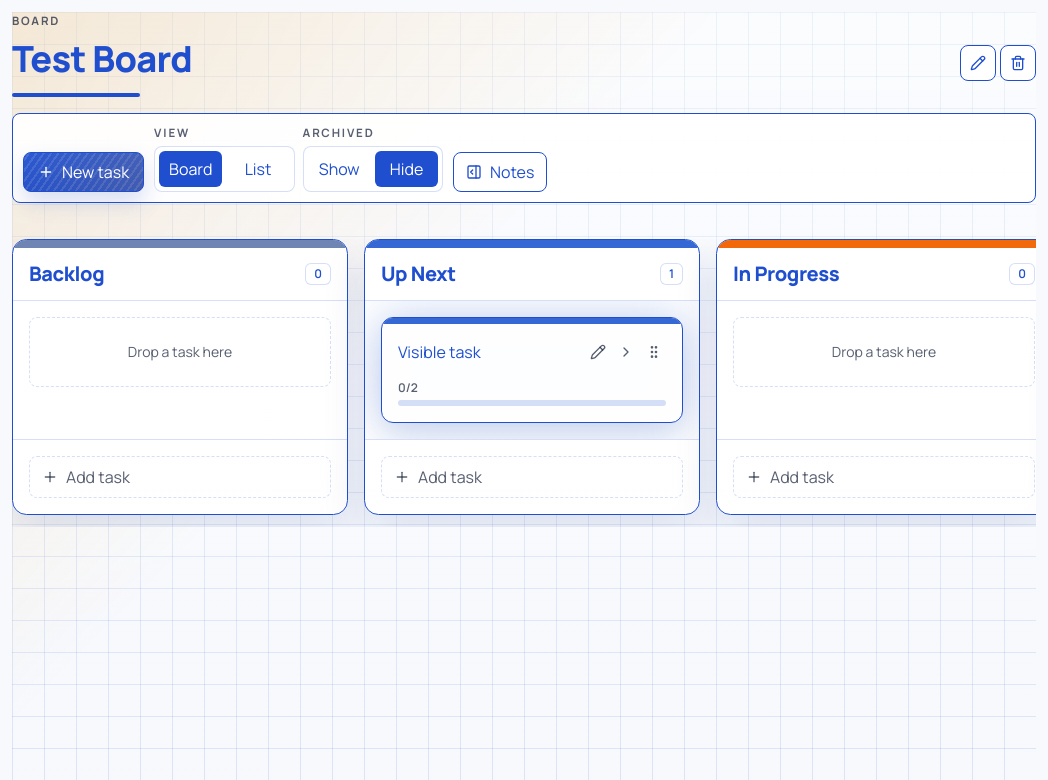
SubtasksCardPanel remove and reorder › does not duplicate a removed row restored by a concurrent server reconcile
Click the button named "Open subtasks menu".
click(626, 352)  # box [614,340,638,364]
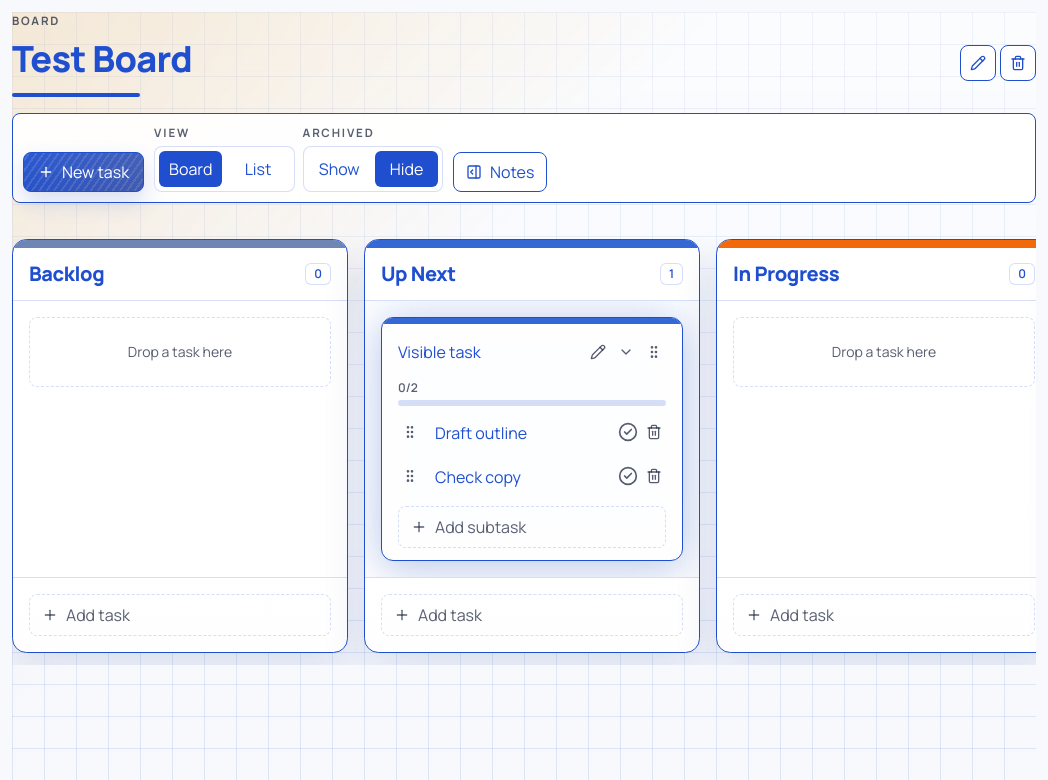
Click the 1st button named "Remove subtask".
click(654, 432)  # box [646,424,662,440]
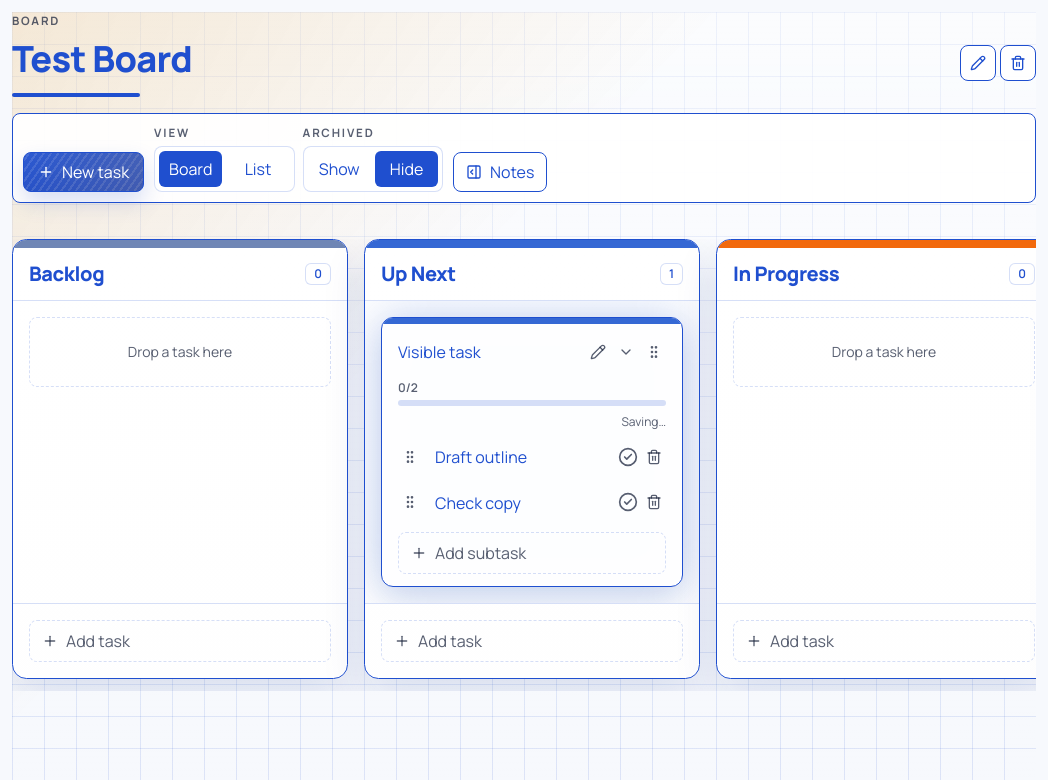
Click the 2nd button named "Mark subtask complete".
click(628, 502)  # box [618,492,638,512]
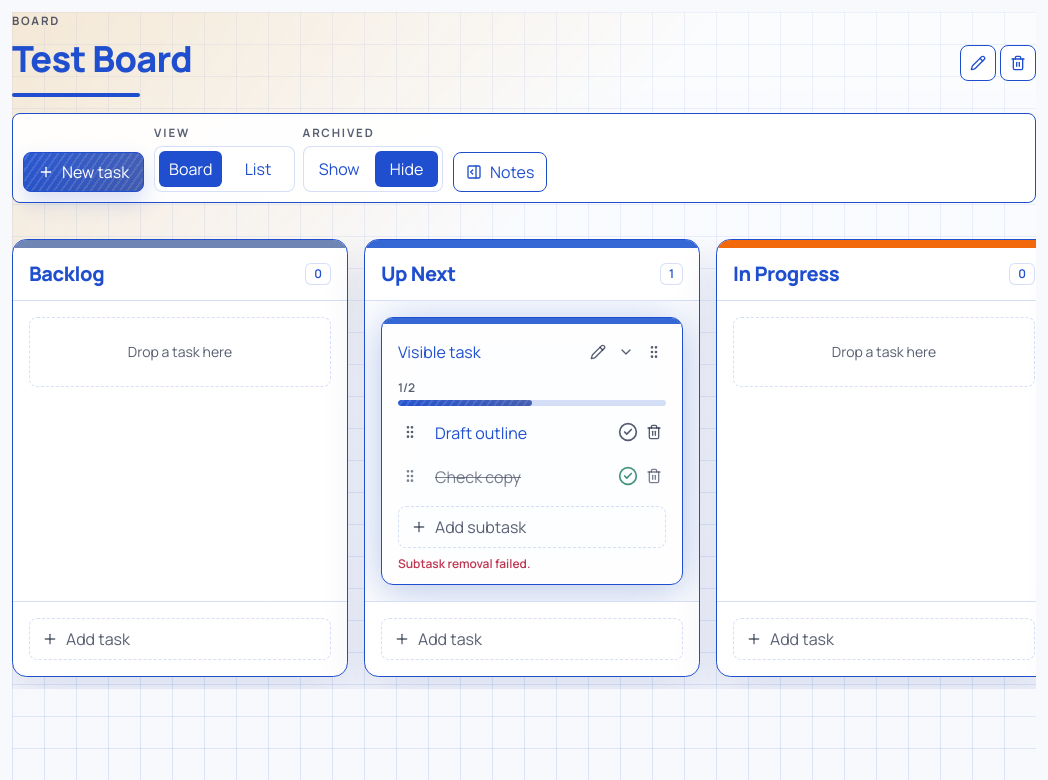
Check: the number of text boxes showing "Draft outline" is 1, box [426,416,610,448]
Check: the message reads "Subtask removal failed.", box [398,554,530,572]
Check: the button named "Mark subtask incomplete" is shown, box [618,466,638,486]
